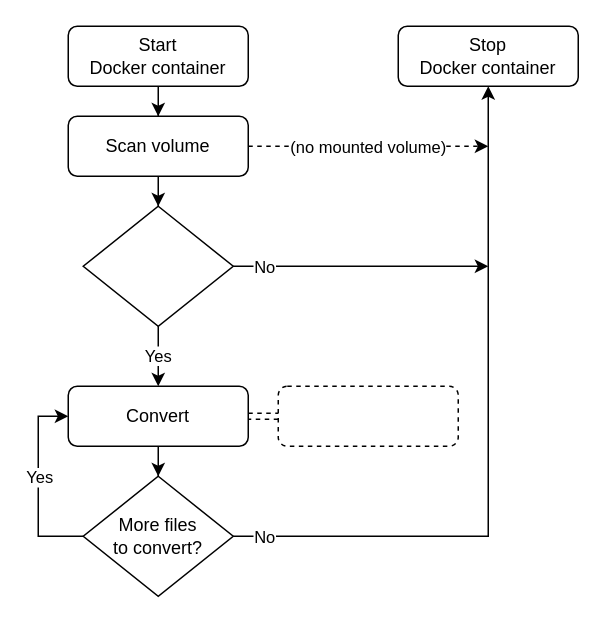
Some shapes in this 605 by 623 pixel diagram are drawn without their labels. The shapes that lost their labels are listed below. From the top down, each one's centre as x and y in pixels, then its label:
(x=157, y=265): Files to convert?
(x=367, y=415): DELETE == "True" Delete original
